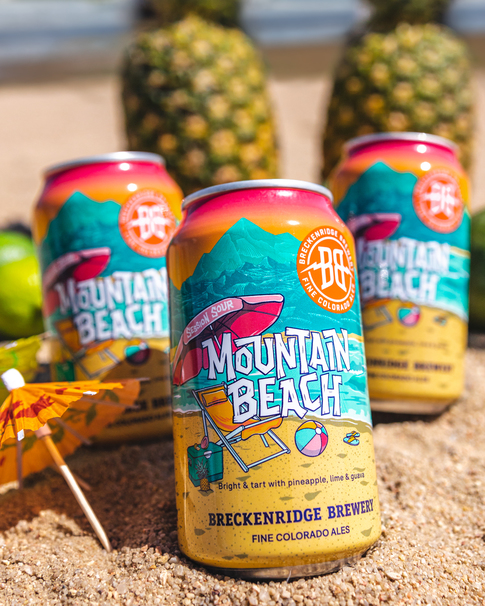can: (164, 178, 388, 578), (34, 151, 200, 443), (321, 130, 470, 417)
